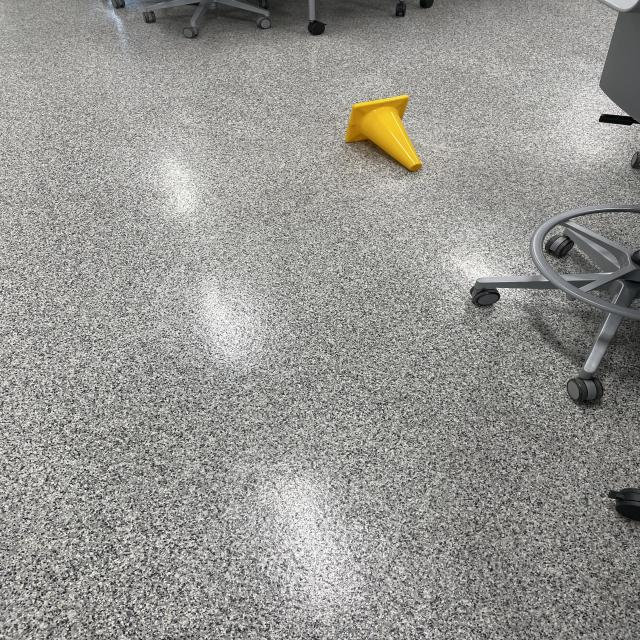frc_cone: (336, 93, 429, 175)
